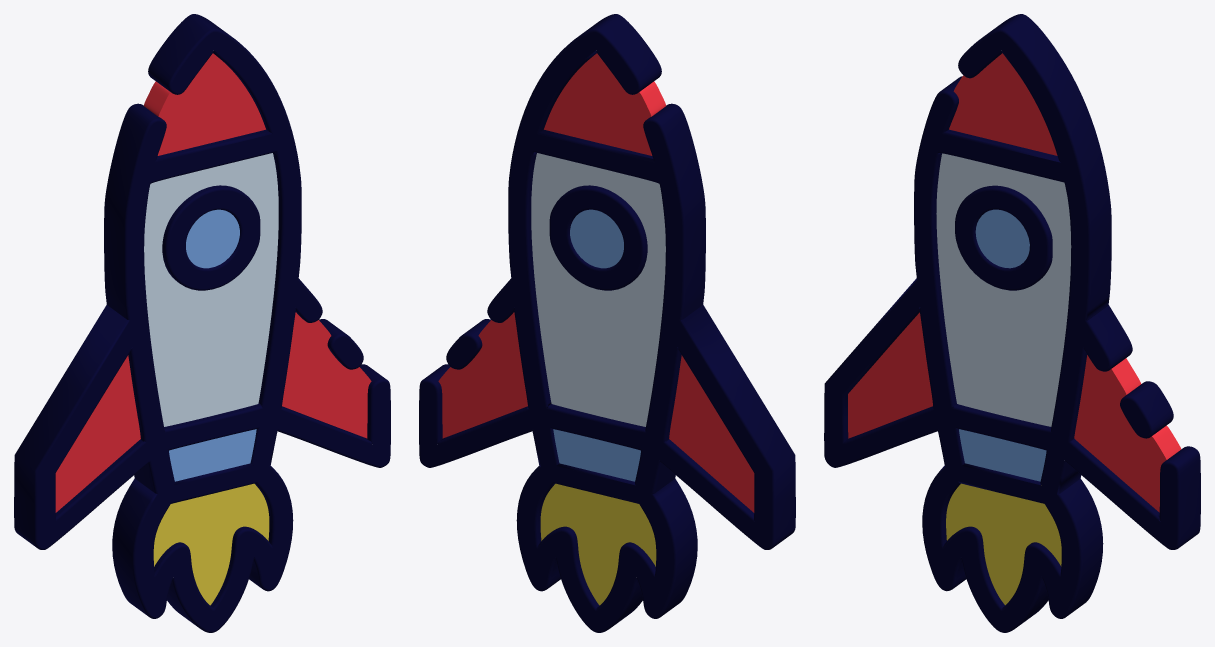
Rendered from rocket.gltf.
3 renders of one model, left to right at view 1: azimuth 30°, elevation 25°; view 2: azimuth 150°, elevation 25°; view 3: azimuth 330°, elevation 25°, orthographic.
Visible parts, largest first — view 1: path588, path600, path592, path596, path598; view 2: path588, path600, path592, path596, path598; view 3: path588, path600, path592, path596, path598.
Part boxes in pixels (x1=…): path588: x1=14, y1=14, x2=390, y2=632; path600: x1=144, y1=153, x2=278, y2=426; path592: x1=55, y1=53, x2=371, y2=512; path596: x1=153, y1=483, x2=269, y2=605; path598: x1=169, y1=209, x2=256, y2=481; path588: x1=419, y1=14, x2=795, y2=632; path600: x1=531, y1=153, x2=665, y2=426; path592: x1=438, y1=53, x2=754, y2=512; path596: x1=540, y1=483, x2=656, y2=605; path598: x1=553, y1=209, x2=640, y2=481; path588: x1=824, y1=14, x2=1200, y2=632; path600: x1=936, y1=153, x2=1071, y2=426; path592: x1=848, y1=53, x2=1181, y2=512; path596: x1=946, y1=483, x2=1061, y2=605; path598: x1=959, y1=209, x2=1046, y2=481.
Bounding box in the file's own units: 6.83 × 11.06 × 0.7385.
